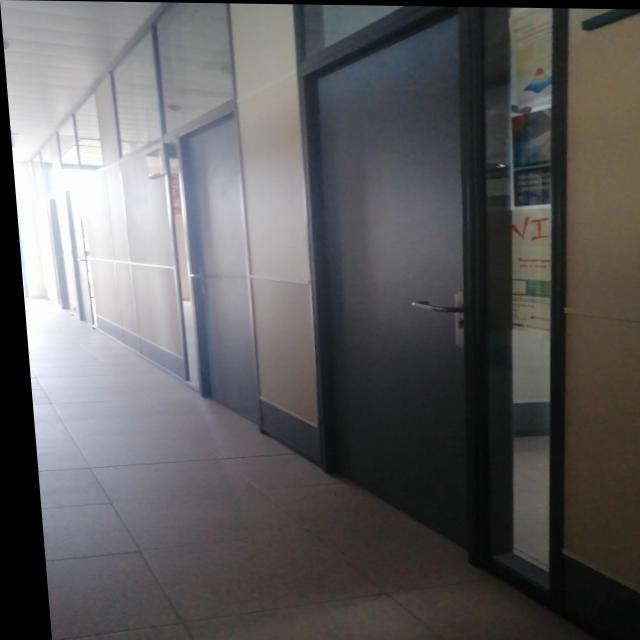door_handle: (395, 296, 466, 314)
